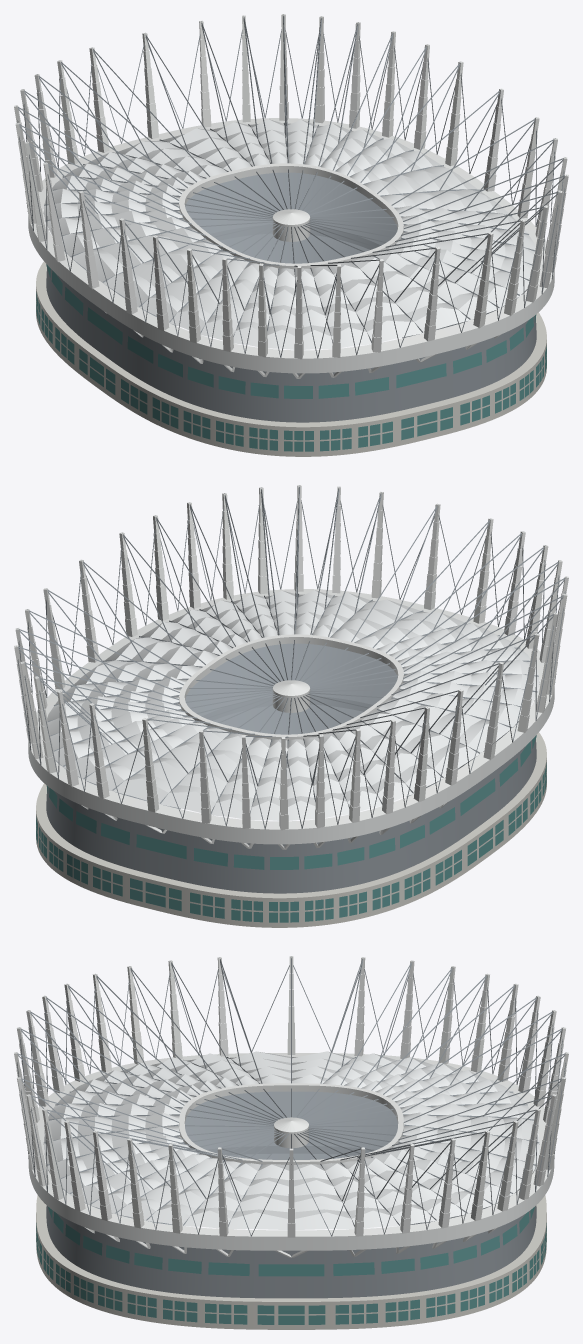
File: van-bc-place.detail.glb
3 views of the same model, one above another, from view 1: azimuth 30°, elevation 25°; view 2: azimuth 150°, elevation 25°; view 3: azimuth 270°, elevation 25° (orthographic). The views are drawn at different scales.
Visible parts, largest first — view 1: BC Place; view 2: BC Place; view 3: BC Place.
Part boxes in pixels (x1,y1,x2,y2): BC Place: (14,14,568,456); BC Place: (14,485,568,927); BC Place: (14,956,568,1329).
Size of the model in its own units: 209 by 94.25 by 252.
